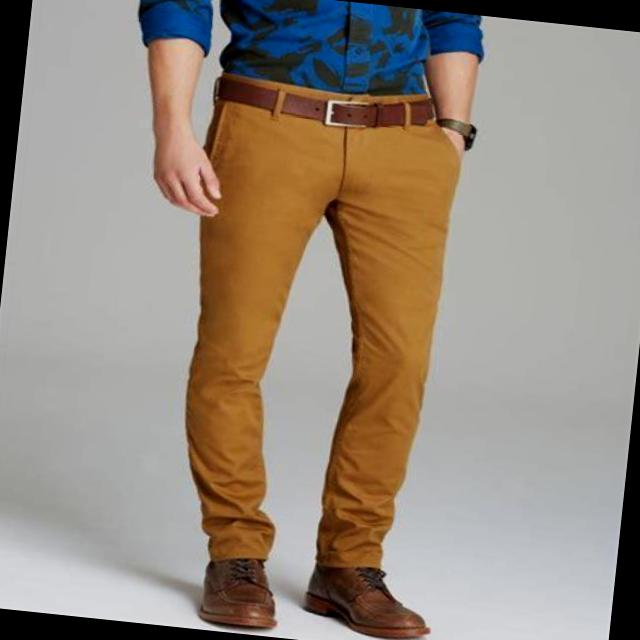pants: (156, 68, 465, 586)
